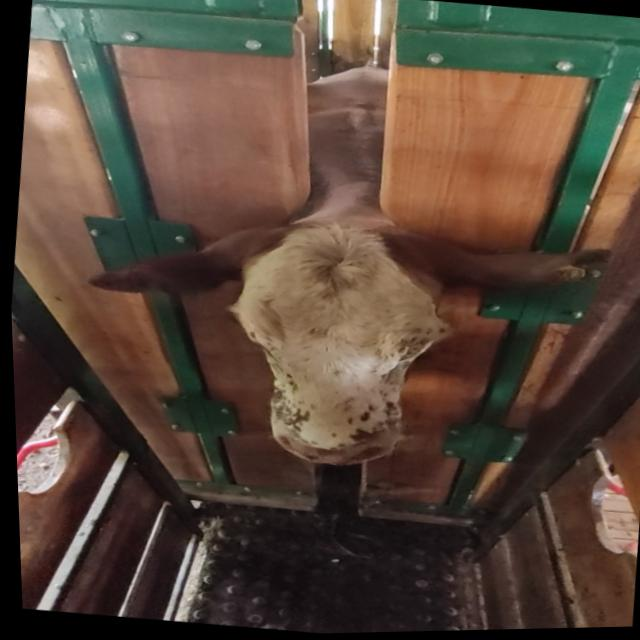cowFace: (213, 206, 461, 474)
